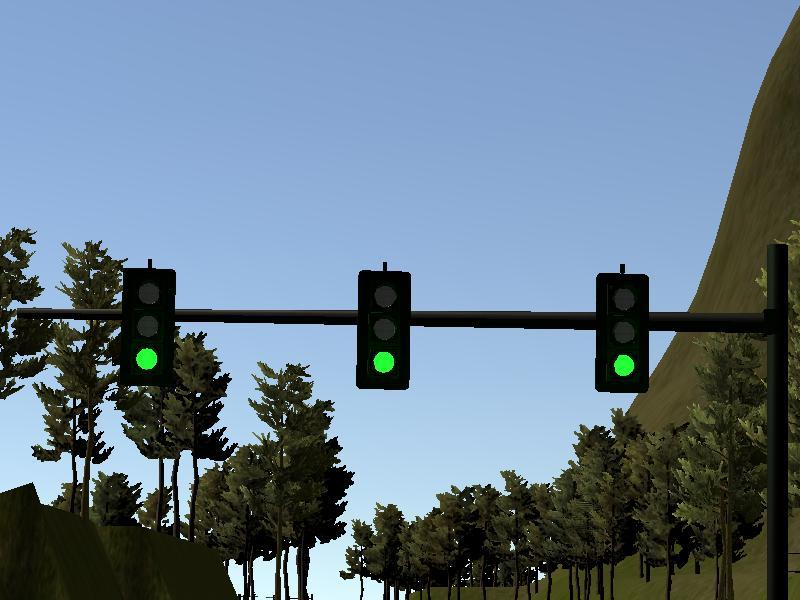Green: (359, 271, 409, 390), (598, 273, 647, 392), (124, 269, 171, 385)
